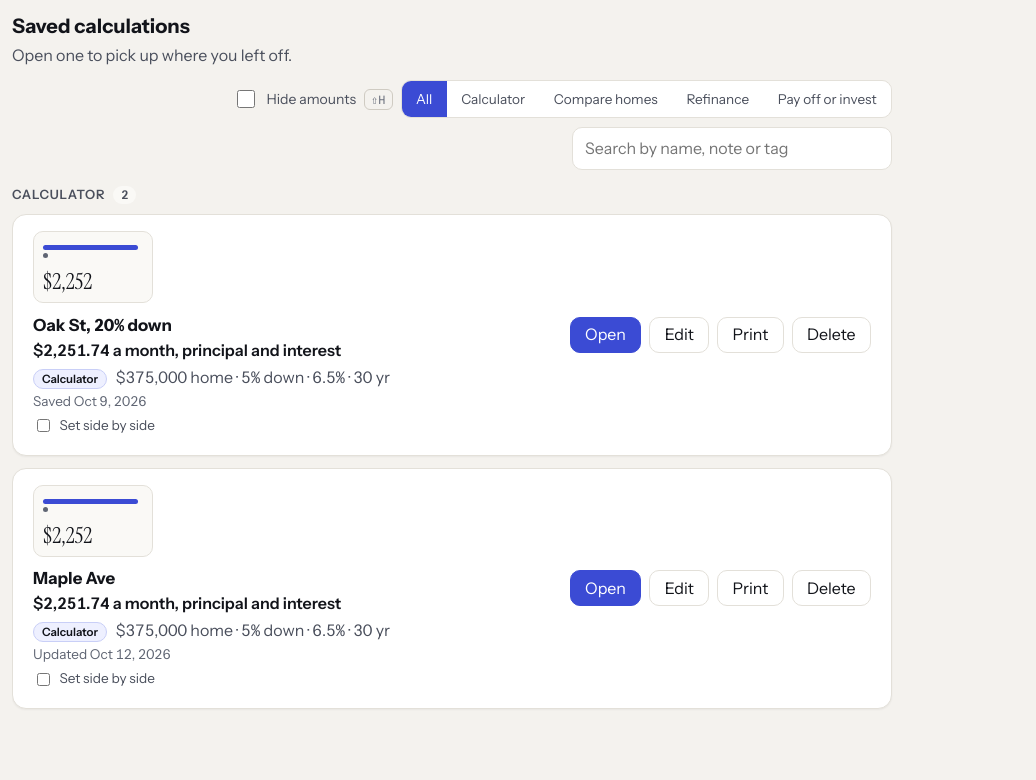
Scenario: HistoryPageComponent › the list › says when nothing matches a search
This screenshot has width=1036, height=780.
Type "zzz" into the search field with test id "history-search". click: [732, 149]
box: [572, 127, 892, 170]
Wait 300 ms
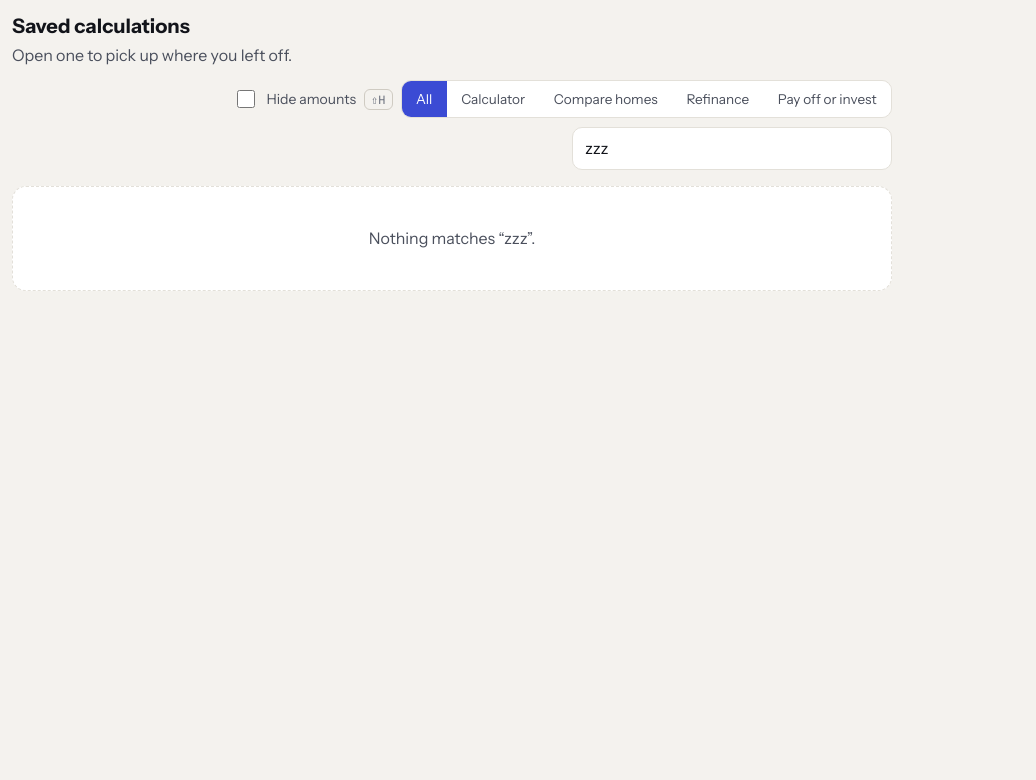
Now the text with test id "history-empty" shows "Nothing matches “zzz”", box [369, 228, 535, 248]
